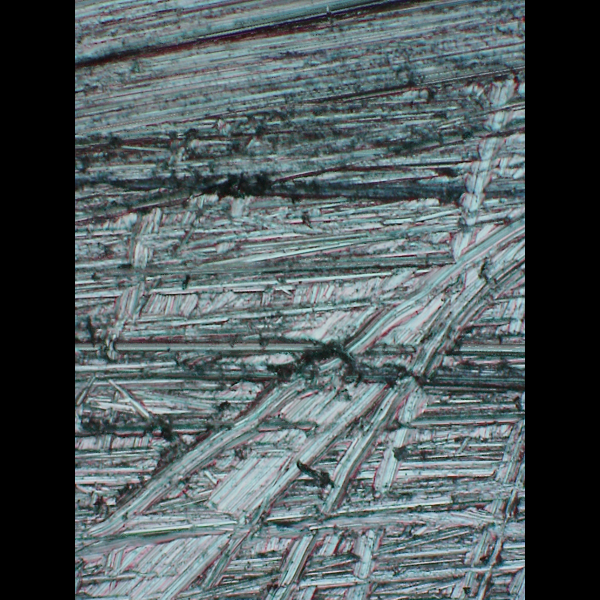d: (97, 202, 524, 599)
